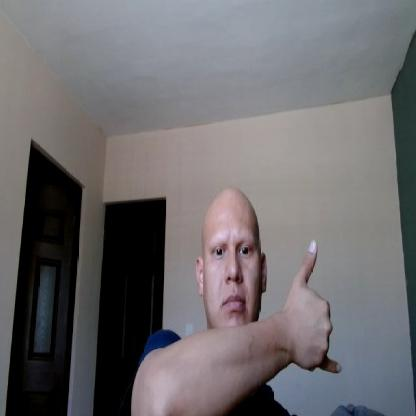Y: (284, 239, 340, 379)
